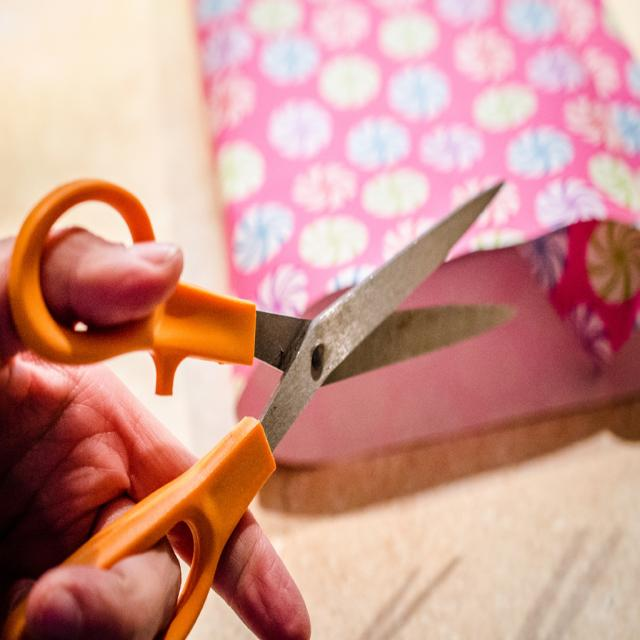scissors: (4, 175, 514, 638)
